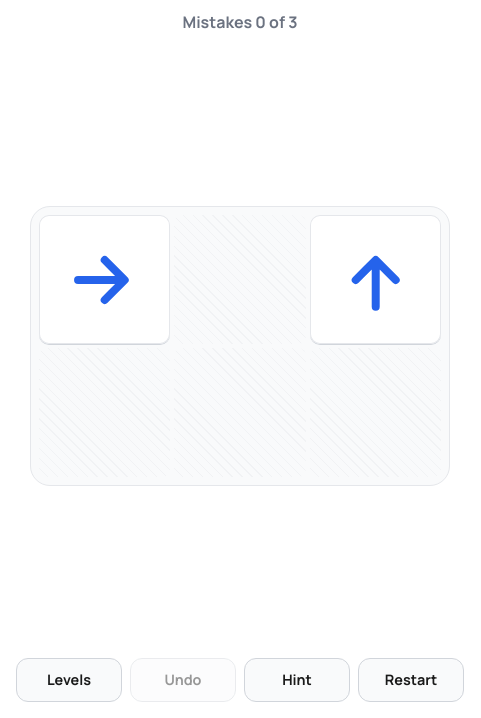
it: PlayScreen: tapping › marks the hint on one free arrow, then disables the hint button
The image size is (481, 718).
Step 1. Click the button "Hint" → coordinates (297, 680), box [244,658,350,702]
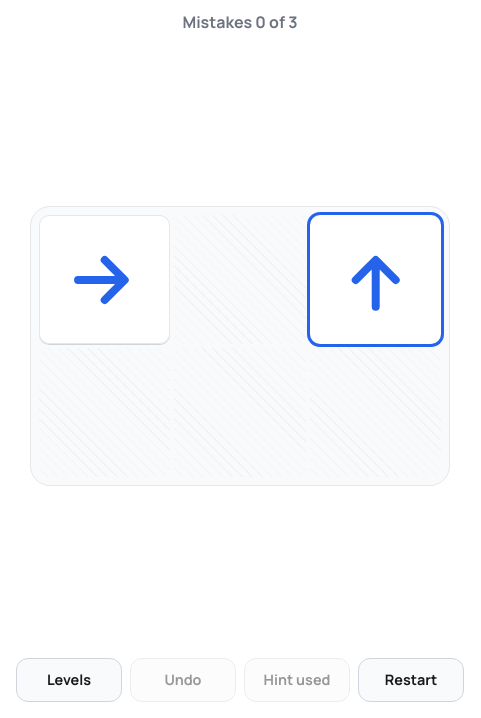
expect the number of buttons with class "is-hint" is 1: met, box [310,215,441,344]
expect the button "Hint used" is disabled: met, box [244,658,350,702]
